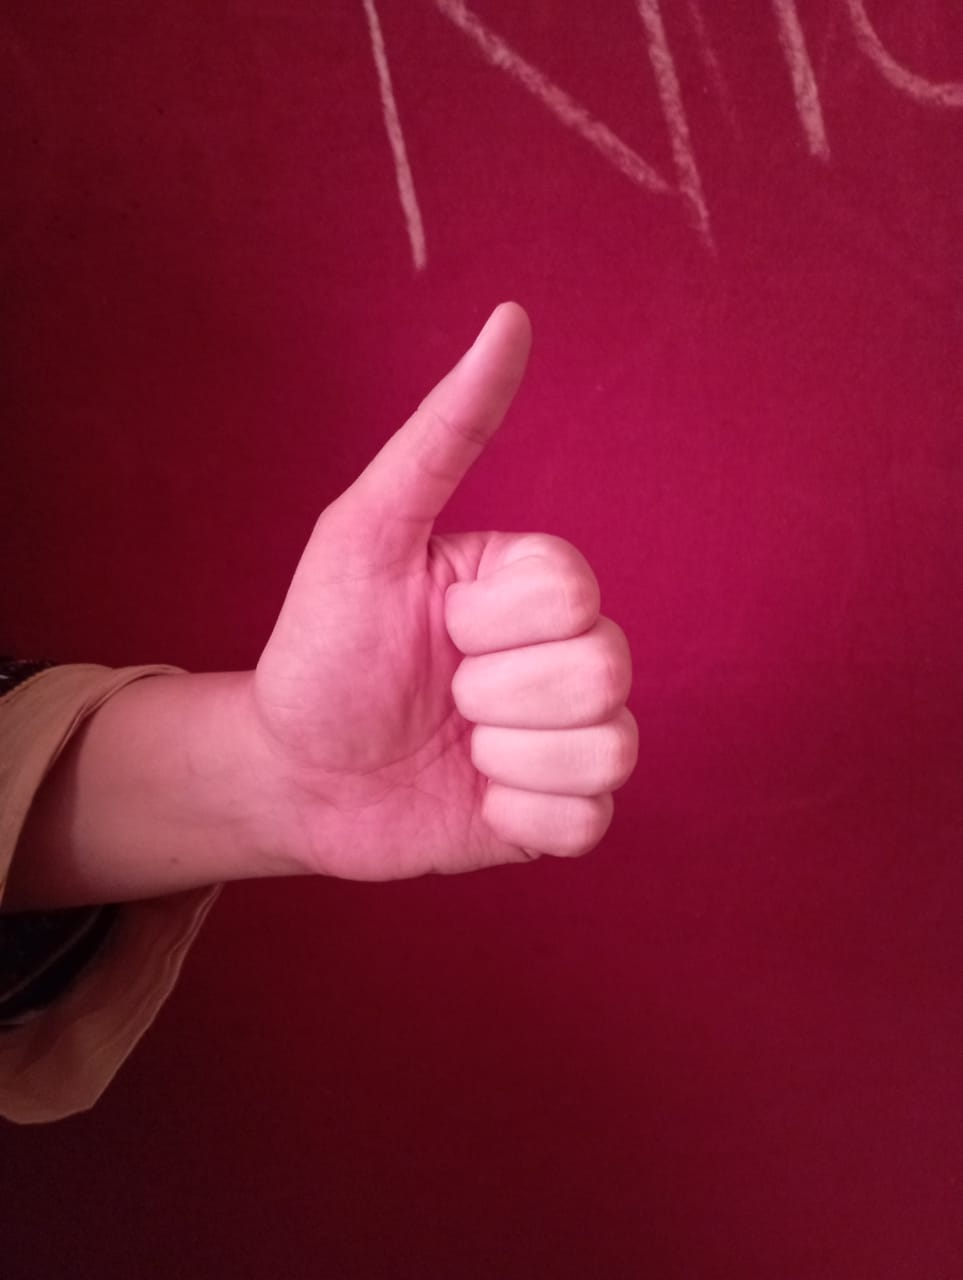I Like It: (232, 290, 646, 898)
